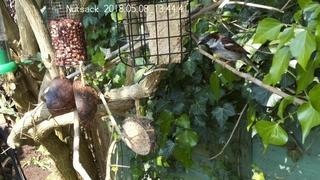sparrow: (197, 33, 262, 74)
